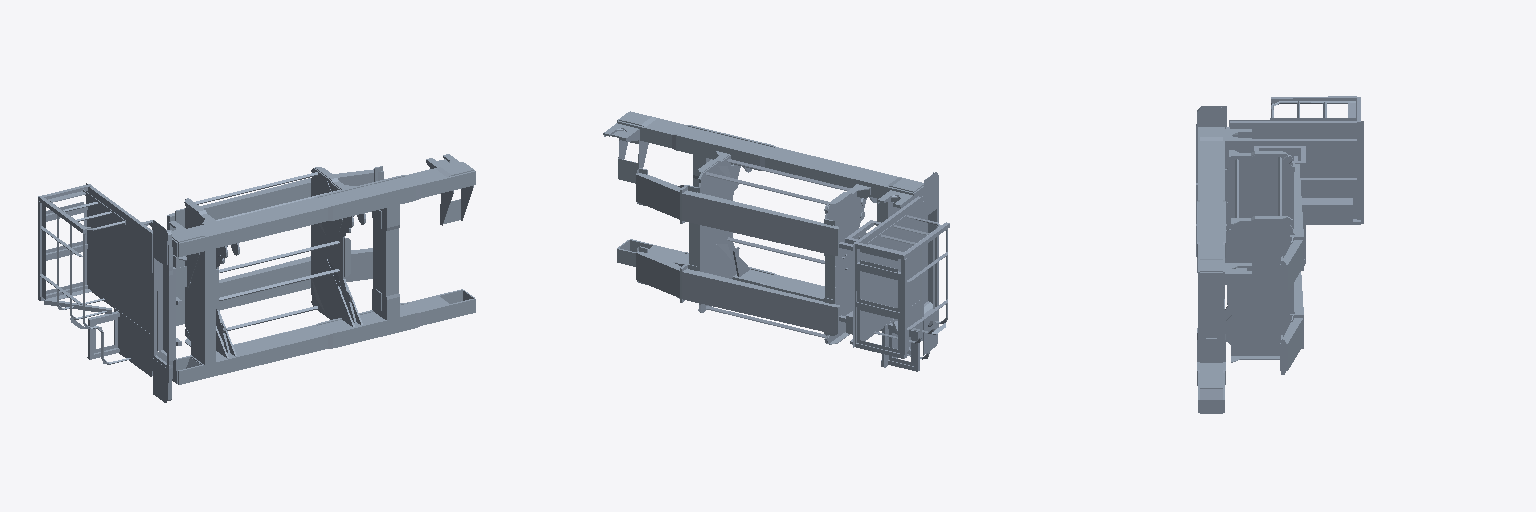
The model's file is trolley.obj.
3 views of the same model, side by side, from view 1: azimuth 30°, elevation 25°; view 2: azimuth 150°, elevation 25°; view 3: azimuth 270°, elevation 25° (orthographic).
Parts seen in each view (by area): view 1: 115, 46, 58, 93, 57, 56, 1, 15, 74, 54, 8, 119 (+12 smaller); view 2: 93, 1, 115, 15, 58, 98, 8, 73, 78, 87, 26, 14 (+4 smaller); view 3: 8, 15, 115, 58, 162, 44, 98, 164, 87, 141, 23, 86 (+1 smaller).
Boxes of the visible parts, x1=… form: 115: x1=87, y1=186, x2=152, y2=333; 46: x1=191, y1=249, x2=215, y2=364; 58: x1=195, y1=169, x2=445, y2=235; 93: x1=219, y1=256, x2=310, y2=310; 57: x1=178, y1=207, x2=327, y2=256; 56: x1=178, y1=334, x2=327, y2=384; 1: x1=168, y1=178, x2=310, y2=230; 15: x1=175, y1=198, x2=229, y2=353; 74: x1=327, y1=184, x2=420, y2=230; 54: x1=327, y1=293, x2=420, y2=348; 8: x1=311, y1=168, x2=356, y2=322; 119: x1=114, y1=308, x2=151, y2=376; 93: x1=682, y1=268, x2=839, y2=334; 1: x1=682, y1=190, x2=839, y2=255; 115: x1=858, y1=196, x2=922, y2=340; 15: x1=824, y1=184, x2=870, y2=344; 58: x1=647, y1=119, x2=896, y2=185; 98: x1=636, y1=247, x2=687, y2=302; 8: x1=698, y1=155, x2=740, y2=312; 73: x1=672, y1=134, x2=765, y2=178; 78: x1=765, y1=157, x2=914, y2=202; 87: x1=636, y1=173, x2=680, y2=219; 26: x1=741, y1=269, x2=824, y2=297; 14: x1=703, y1=244, x2=732, y2=277; 8: x1=1225, y1=216, x2=1292, y2=355; 15: x1=1225, y1=150, x2=1293, y2=229; 115: x1=1229, y1=120, x2=1356, y2=218; 58: x1=1200, y1=141, x2=1222, y2=258; 162: x1=1230, y1=121, x2=1356, y2=129; 44: x1=1199, y1=286, x2=1222, y2=362; 98: x1=1280, y1=314, x2=1303, y2=374; 164: x1=1302, y1=205, x2=1352, y2=221; 87: x1=1280, y1=240, x2=1302, y2=291; 141: x1=1250, y1=139, x2=1356, y2=144; 23: x1=1200, y1=363, x2=1222, y2=388; 86: x1=1200, y1=287, x2=1223, y2=328.
Size of the model in its own units: 5.5 by 2.56 by 2.24.